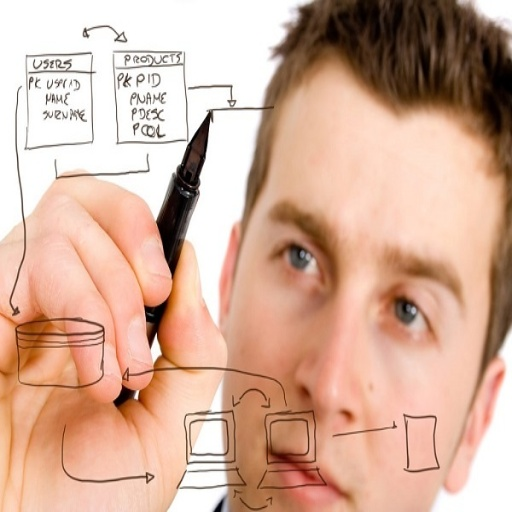hand: (21, 191, 195, 423)
